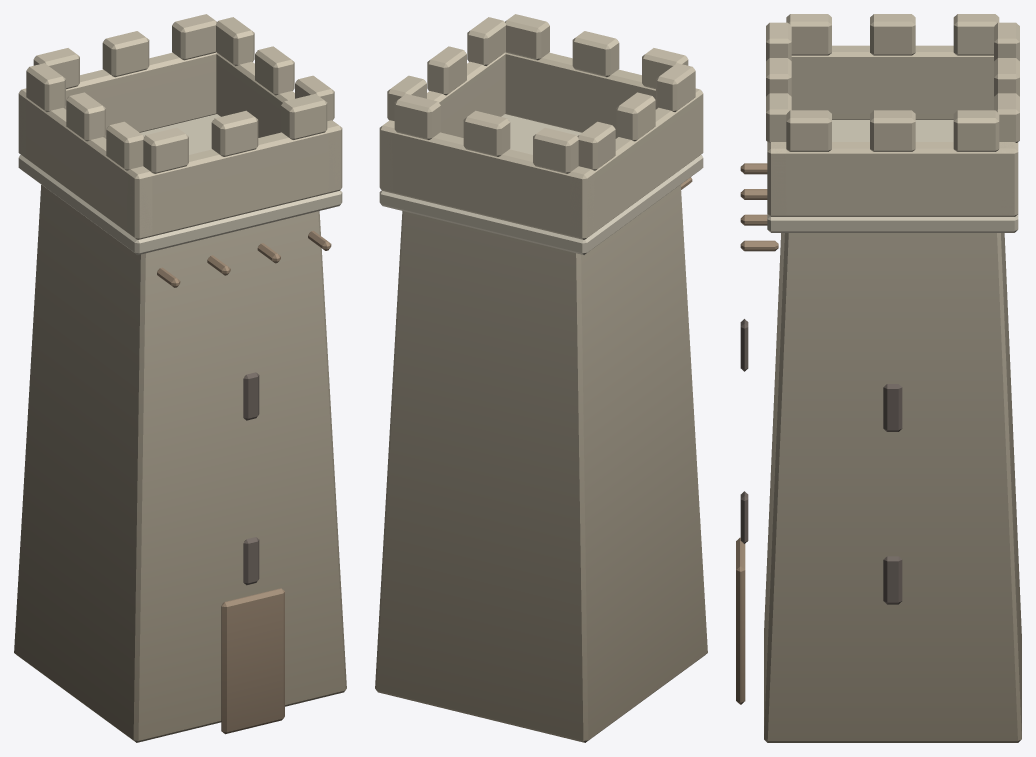
The model's file is iv_tower.glb.
3 views of the same model, side by side, from view 1: azimuth 30°, elevation 25°; view 2: azimuth 150°, elevation 25°; view 3: azimuth 270°, elevation 25° (orthographic). The views are drawn at different scales.
Visible parts, largest first — view 1: iv_tower; view 2: iv_tower; view 3: iv_tower.
Boxes of the visible parts, x1=… form: iv_tower: x1=14, y1=14, x2=346, y2=742; iv_tower: x1=375, y1=14, x2=707, y2=742; iv_tower: x1=736, y1=14, x2=1021, y2=742.
Bounding box in the file's own units: 3.7 × 9.05 × 3.76.
